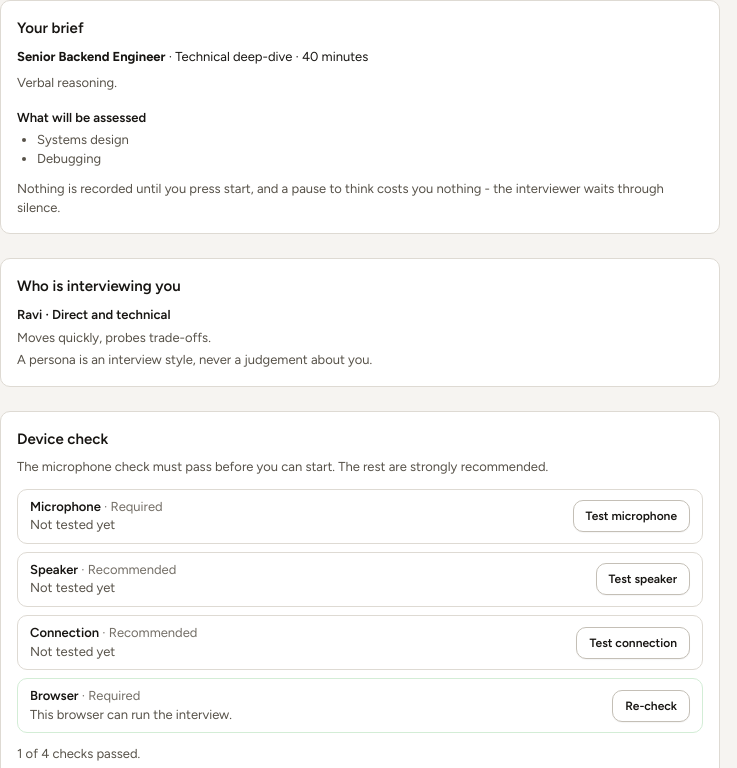
Test case: the gate › start is disabled until the microphone passes and consent is given, in that order
Click the button "Test microphone": (631, 516) [573, 500, 690, 532]
(page scrolled)
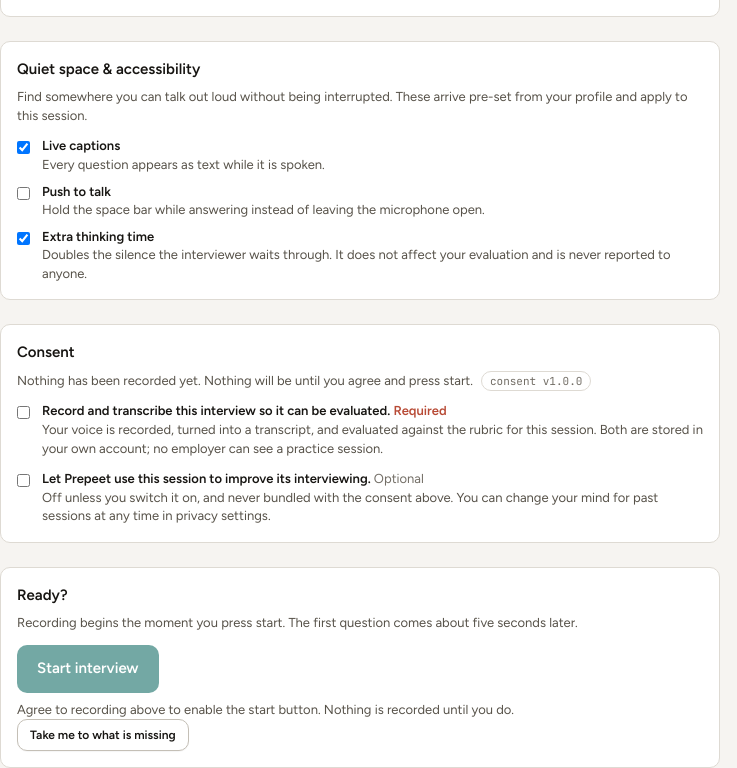
Check: the button "Start interview" is disabled, box [17, 645, 159, 693]
Check: the text "Agree to recording above" is shown, box [17, 702, 514, 717]
Click the checkbox labelled "Record and transcribe": (24, 413) [17, 406, 30, 419]
(page scrolled)
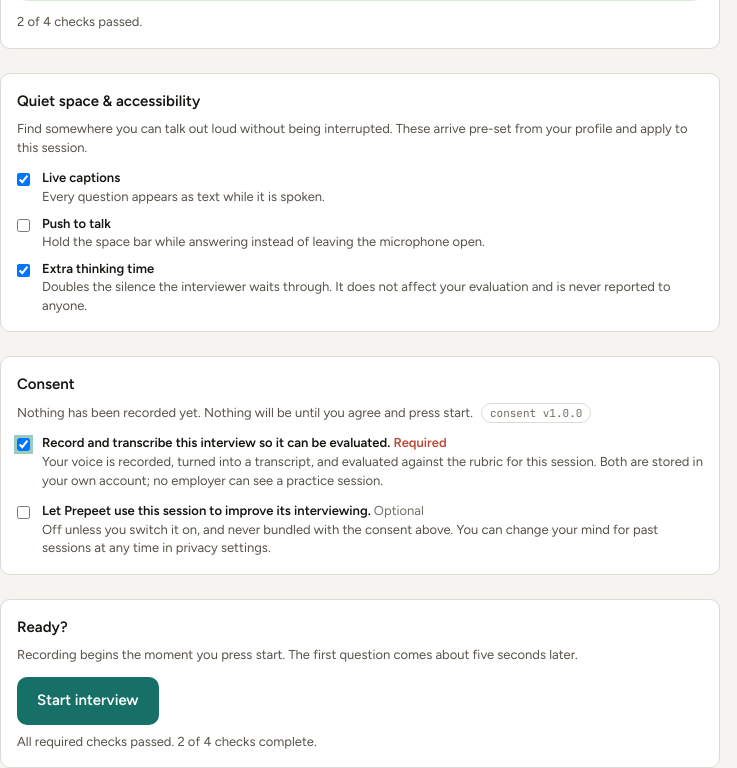
Check: the button "Start interview" is enabled, box [17, 677, 159, 725]
Check: the text "All required checks passed. 2 of 4 checks complete." is shown, box [17, 734, 317, 749]
